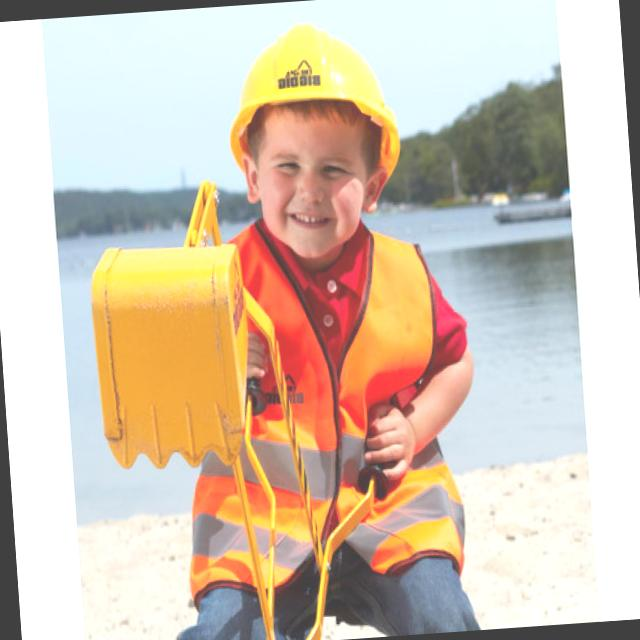helmet: (212, 19, 390, 192)
no-goggles: (236, 134, 382, 208)
vest: (199, 217, 456, 584)
